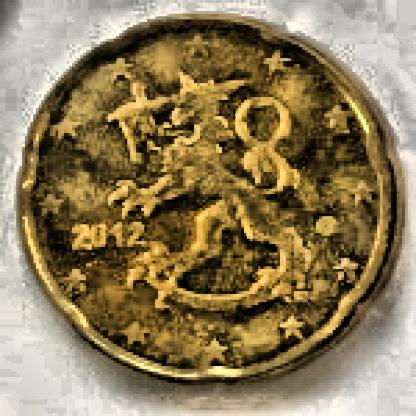coin: (19, 13, 408, 385)
